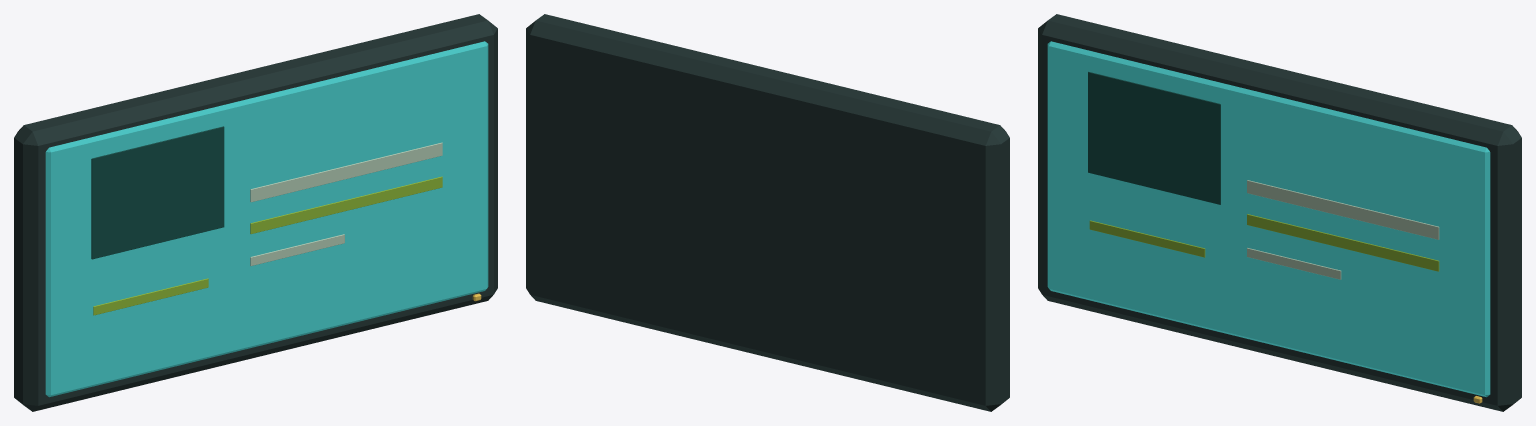
File: monitor.glb
3 views of the same model, side by side, from view 1: azimuth 30°, elevation 25°; view 2: azimuth 150°, elevation 25°; view 3: azimuth 330°, elevation 25° (orthographic).
Parts seen in each view (by area): view 1: Painel, Carcaça, Gráfico, Gráfico.001, Gráfico.002; view 2: Carcaça; view 3: Painel, Carcaça, Gráfico, Gráfico.001, Gráfico.002.
Boxes of the visible parts, x1,y1,x2,y2 form: Painel: (45, 41, 488, 397); Carcaça: (14, 14, 497, 411); Gráfico: (91, 126, 224, 259); Gráfico.001: (250, 142, 442, 265); Gráfico.002: (93, 176, 442, 315); Carcaça: (526, 14, 1009, 411); Painel: (1047, 41, 1490, 397); Carcaça: (1038, 14, 1521, 411); Gráfico: (1088, 71, 1220, 204); Gráfico.001: (1247, 180, 1439, 279); Gráfico.002: (1089, 214, 1439, 271).
Size of the model in its own units: 1.36 by 0.7669 by 0.1195.
